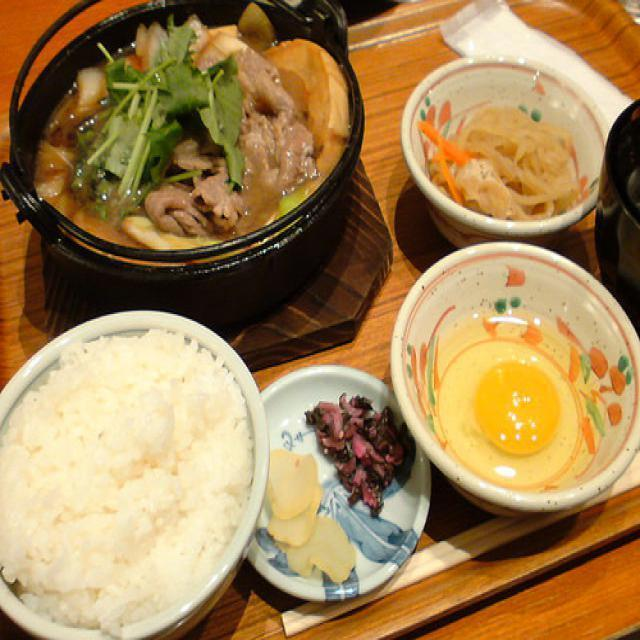Rice: (0, 319, 265, 638)
